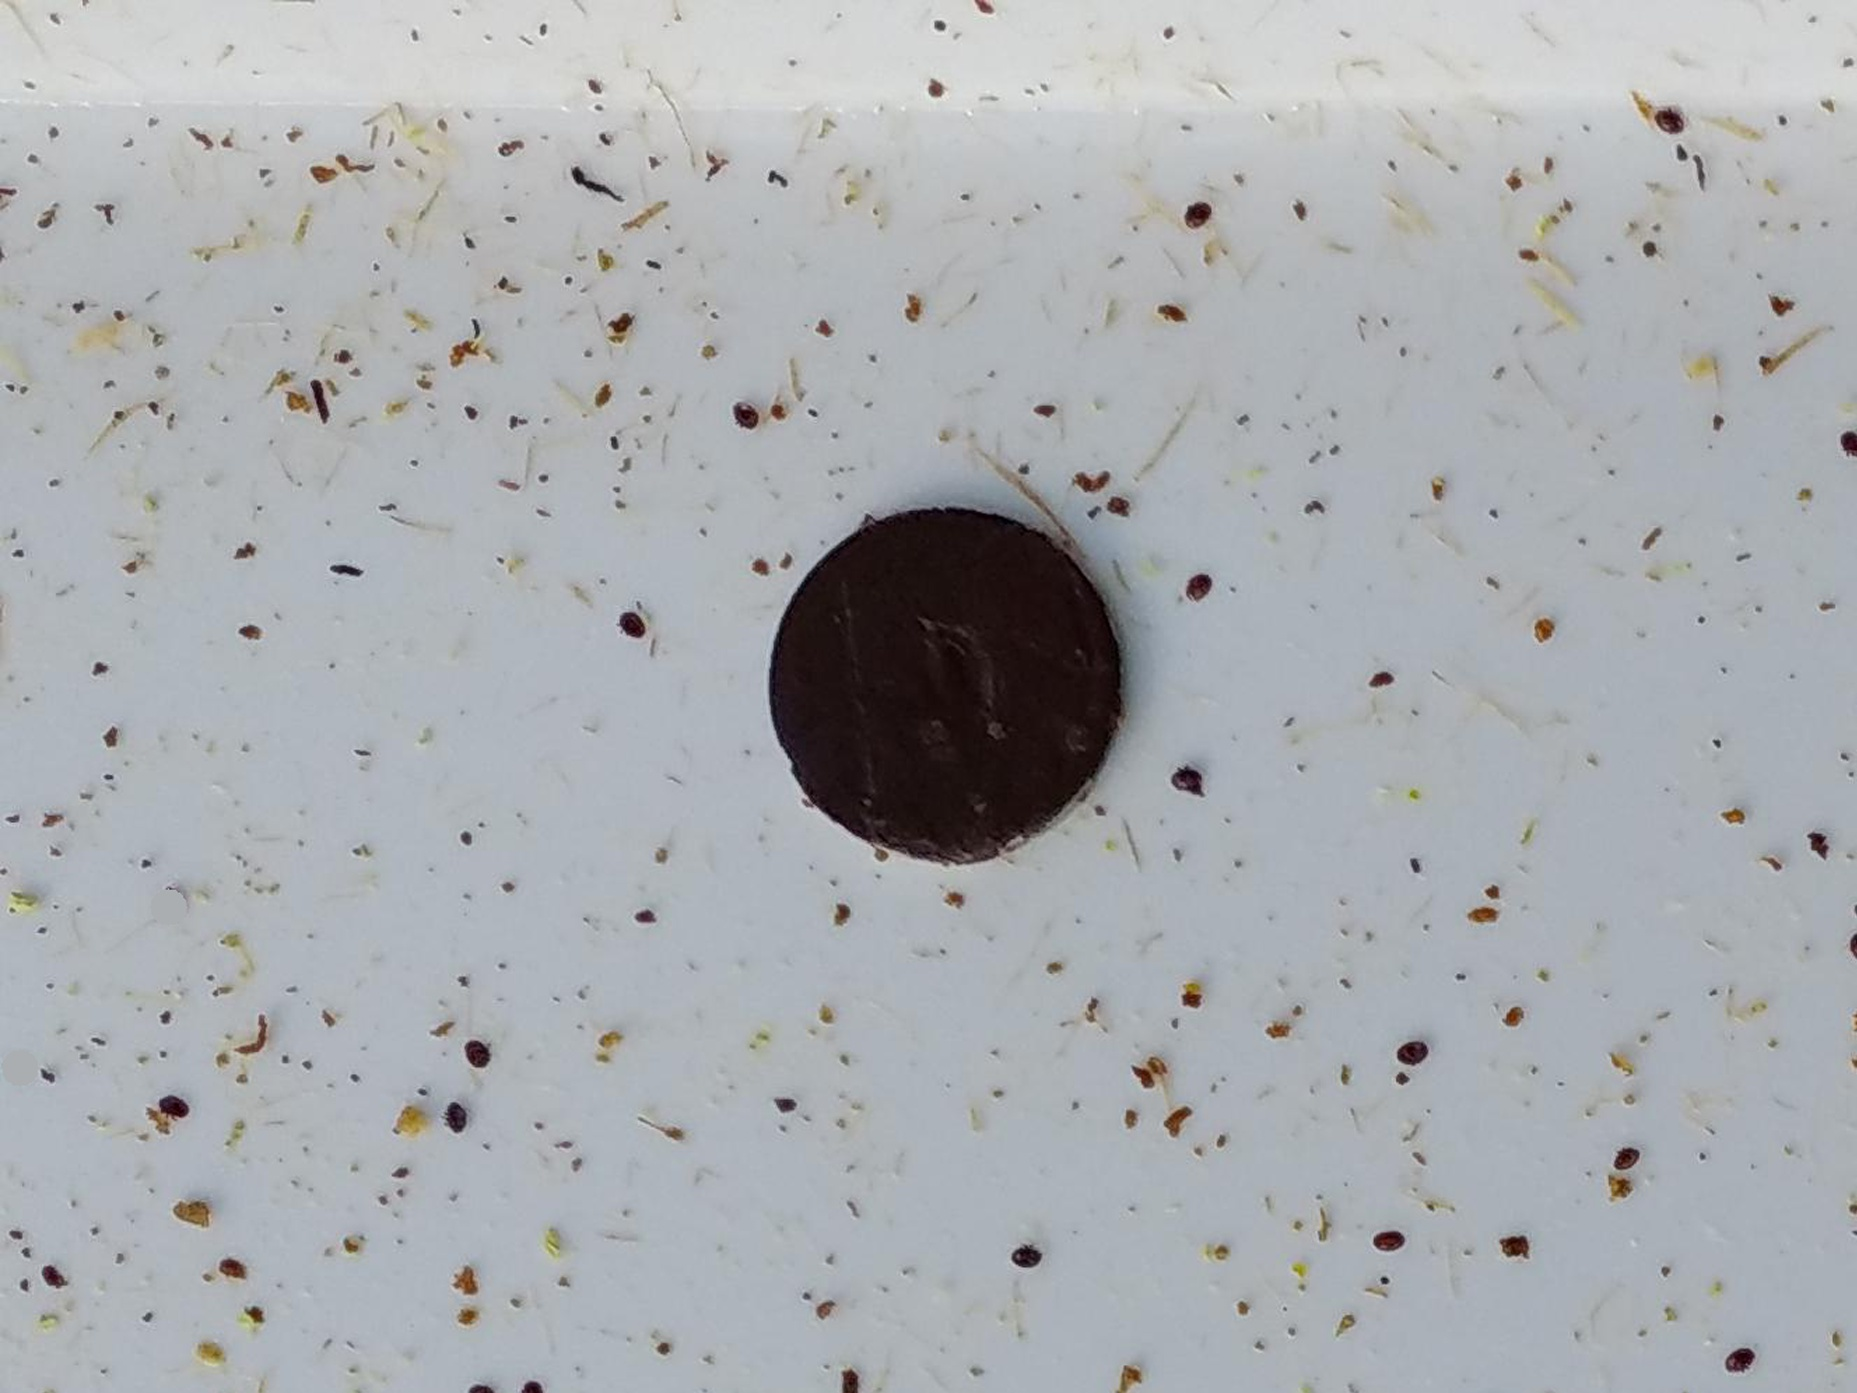Varroa: (1182, 568, 1213, 600), (1371, 1225, 1402, 1255), (1396, 1033, 1425, 1064), (1182, 199, 1212, 230), (1010, 1235, 1040, 1264), (738, 399, 765, 429), (461, 1035, 490, 1062), (1725, 1349, 1752, 1377), (1175, 764, 1201, 792), (158, 1094, 186, 1121), (443, 1111, 470, 1138), (1658, 105, 1684, 133), (1611, 1147, 1637, 1175), (620, 609, 645, 634)
